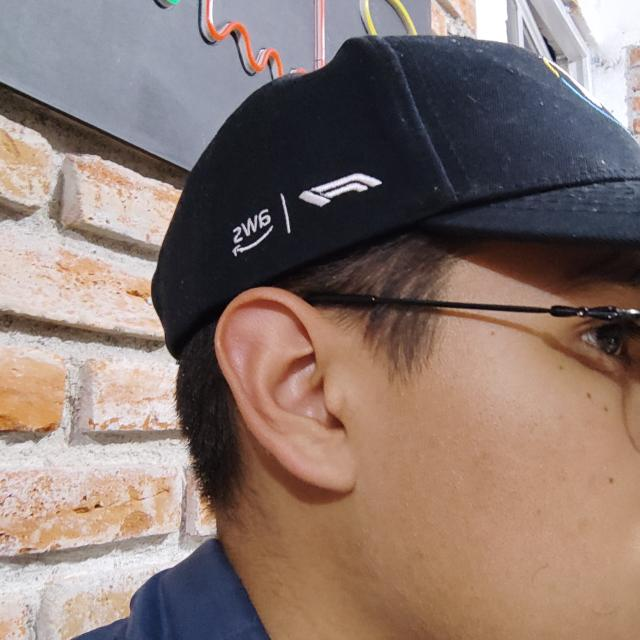ear: (214, 287, 357, 491)
